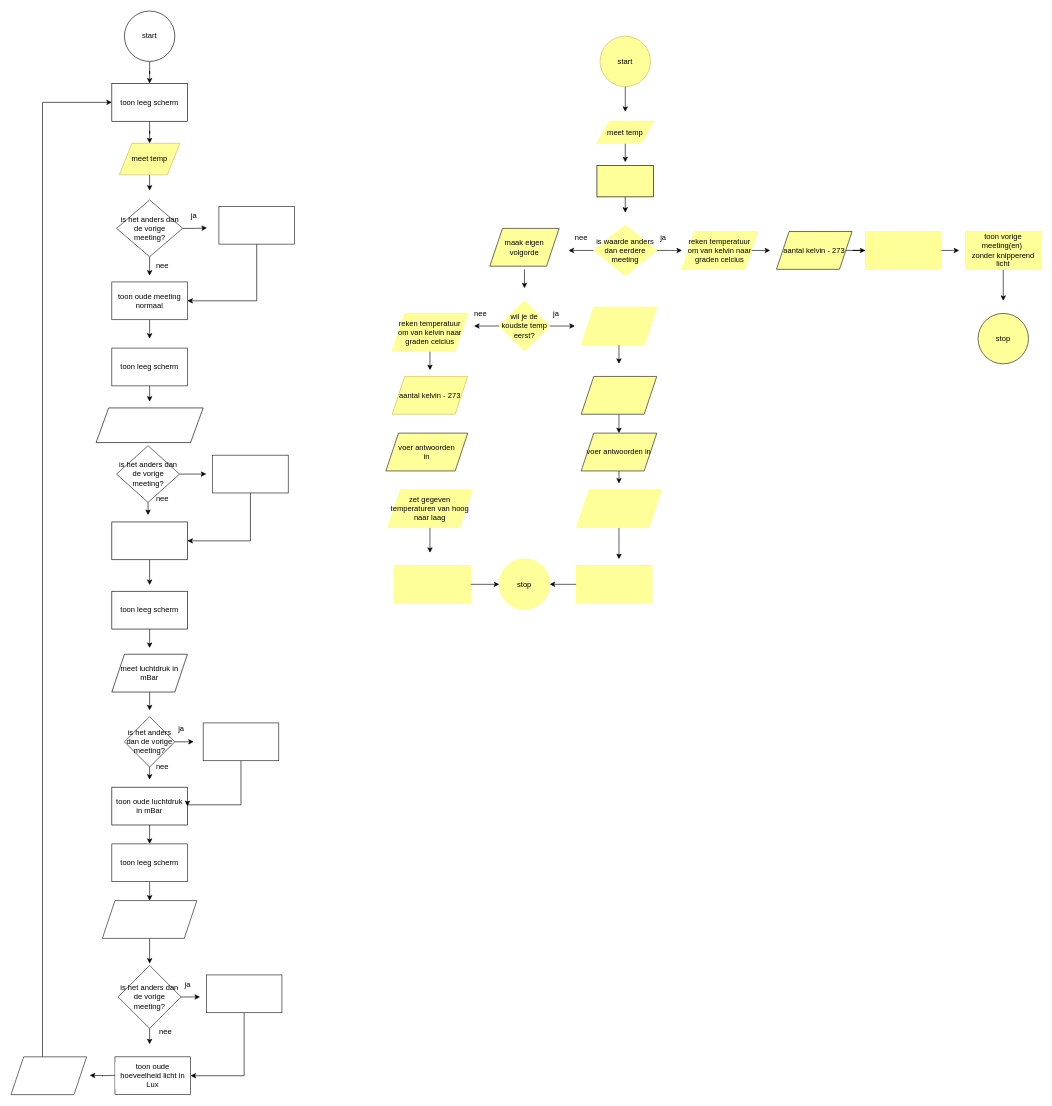
Image size: 1052x1106. Some labels were removed from this diagram. Here are the shapes that lost their labels. From the top down, the box of each, then its label:
(596, 165, 654, 197): toon temp in kelvin
(218, 206, 295, 244): toon nieuwe meeting knipperend
(865, 231, 941, 269): toon nieuwe meeting met knipperend licht
(581, 306, 657, 345): reken temp om van kelvin naar graden celcius
(581, 376, 657, 414): aant kelvin - 273
(95, 407, 203, 443): meet luchtvochtigheid in % op scherm
(212, 455, 288, 493): toon nieuwe meeting knipperend in %
(576, 489, 662, 528): zet gegeven temperaturen van laag naar hoog
(111, 521, 187, 560): toon oude luchtvochtigheid in % op scherm
(394, 565, 470, 603): toon temperatuur van hoog naar laag
(576, 565, 652, 603): toon temperaturen van laag naar hoog
(203, 722, 279, 761): toon nieuwe meeting knipperend in mBar
(102, 900, 197, 938): meet hoeveelheid licht
(206, 974, 282, 1013): toon nieuwe meeting knipperend in Lux
(10, 1056, 87, 1095): wacht 4 minuten
